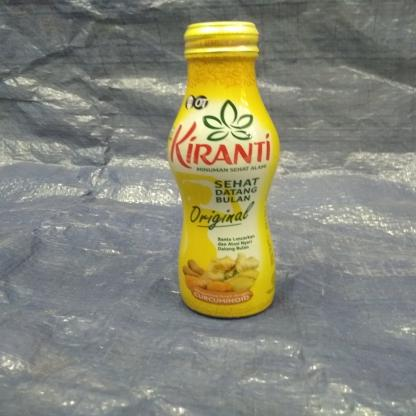glass: (165, 17, 283, 320)
